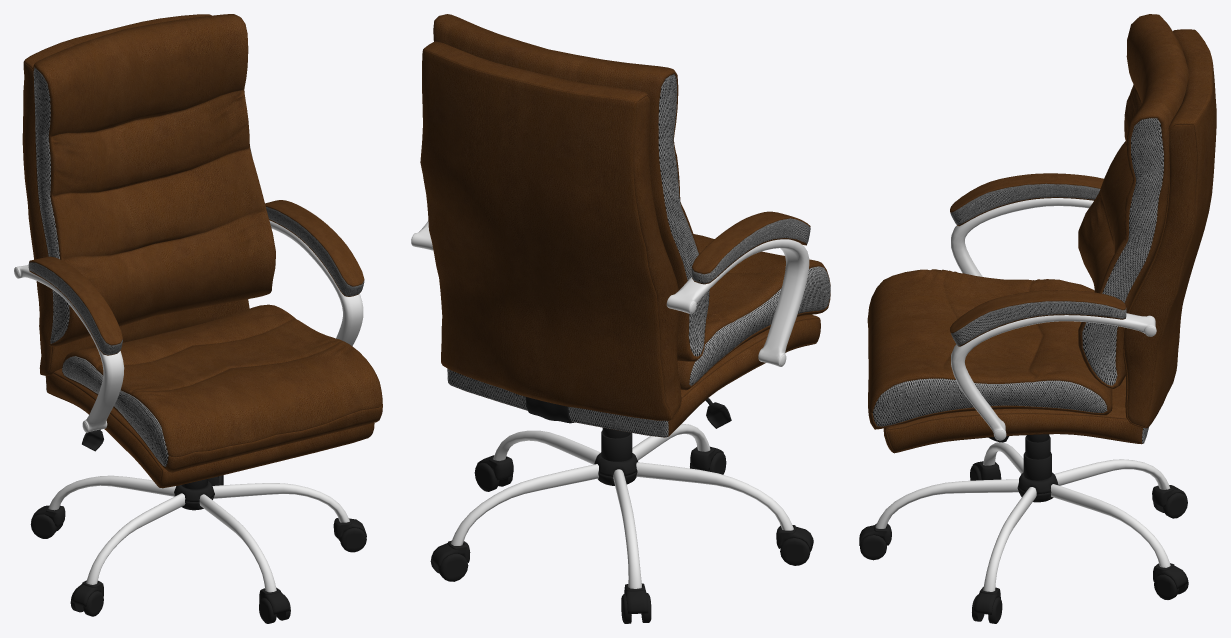
Rendered from chair.glb.
3 renders of one model, left to right at view 1: azimuth 30°, elevation 25°; view 2: azimuth 150°, elevation 25°; view 3: azimuth 270°, elevation 25°, orthographic. The views are drawn at different scales.
Visible parts, largest first — view 1: Office Chair; view 2: Office Chair; view 3: Office Chair.
Part boxes in pixels (left/top/right/bottom): Office Chair: left=14, top=14, right=382, bottom=623; Office Chair: left=411, top=14, right=830, bottom=623; Office Chair: left=859, top=14, right=1216, bottom=623.
Size of the model in its own units: 0.8549 by 1.34 by 0.8829.
5 materials, 2 textured.
